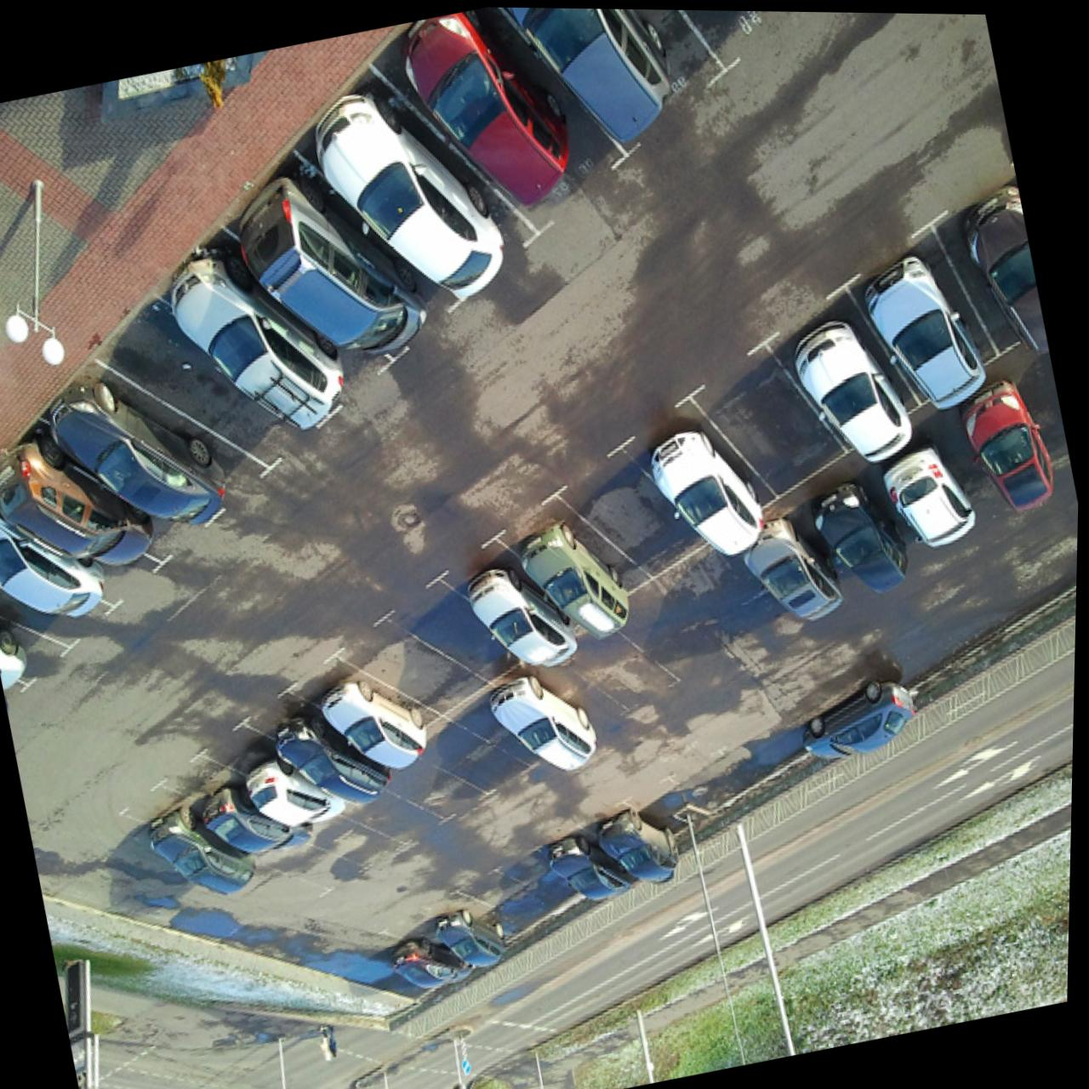cars: (314, 89, 525, 315), (388, 6, 596, 219), (170, 231, 372, 447), (245, 173, 448, 376), (51, 366, 255, 548), (0, 427, 196, 604), (628, 392, 773, 559), (0, 487, 143, 651), (778, 306, 917, 468), (941, 368, 1074, 531), (532, 8, 701, 136), (499, 491, 634, 649), (929, 187, 1051, 361), (861, 259, 996, 411), (861, 431, 989, 583), (446, 539, 583, 681), (136, 779, 262, 918), (309, 651, 437, 787), (269, 688, 389, 829), (216, 718, 342, 852), (732, 512, 852, 647), (513, 640, 633, 763), (807, 478, 914, 604), (187, 759, 299, 879), (463, 679, 575, 794), (589, 789, 686, 899), (539, 816, 636, 926), (418, 894, 521, 988), (378, 923, 477, 1013)
empty: (114, 302, 309, 510), (695, 356, 840, 517), (566, 449, 704, 601), (336, 766, 466, 900), (402, 577, 519, 710), (421, 694, 536, 829), (608, 581, 732, 705), (354, 612, 476, 738), (382, 738, 504, 864), (565, 614, 678, 736), (278, 808, 393, 925), (680, 545, 790, 660), (315, 795, 426, 902), (446, 853, 550, 958), (498, 822, 596, 929)
